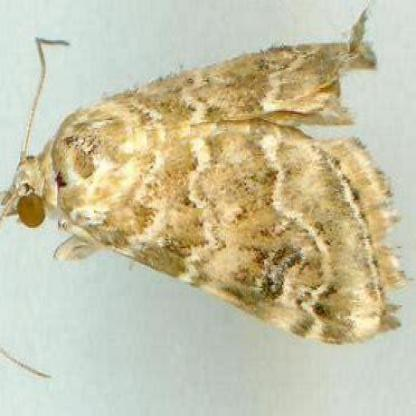Hellula undalis: (0, 3, 413, 356)
